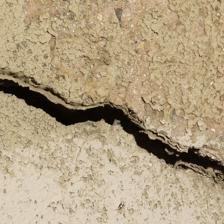Crack: (2, 32, 222, 145)
